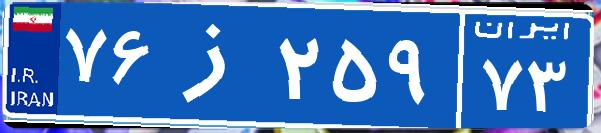2: (273, 28, 330, 110)
3: (525, 38, 570, 115)
5: (330, 28, 385, 110)
6: (110, 28, 158, 105)
7: (57, 26, 110, 107), (475, 38, 525, 113)
9: (385, 28, 445, 110)
ز: (158, 15, 273, 115)
